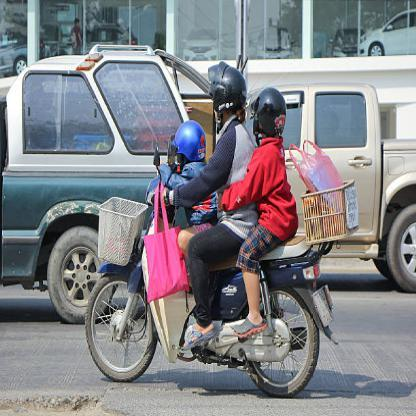Motorcycle: (85, 151, 330, 402)
